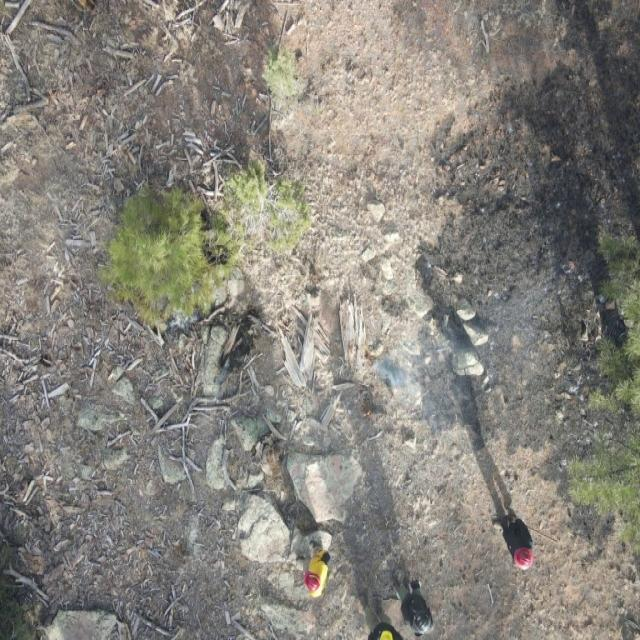fire: (359, 396, 376, 422), (362, 350, 379, 370)
smoke: (371, 302, 544, 409)
